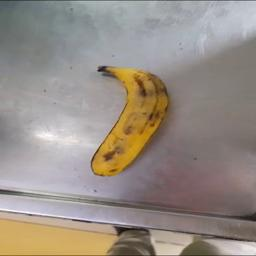Banana Semirotten: (80, 56, 178, 181)
